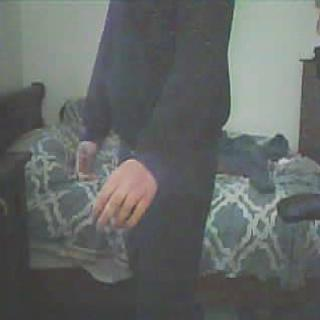Navy Sweatpants: (116, 146, 224, 320)
